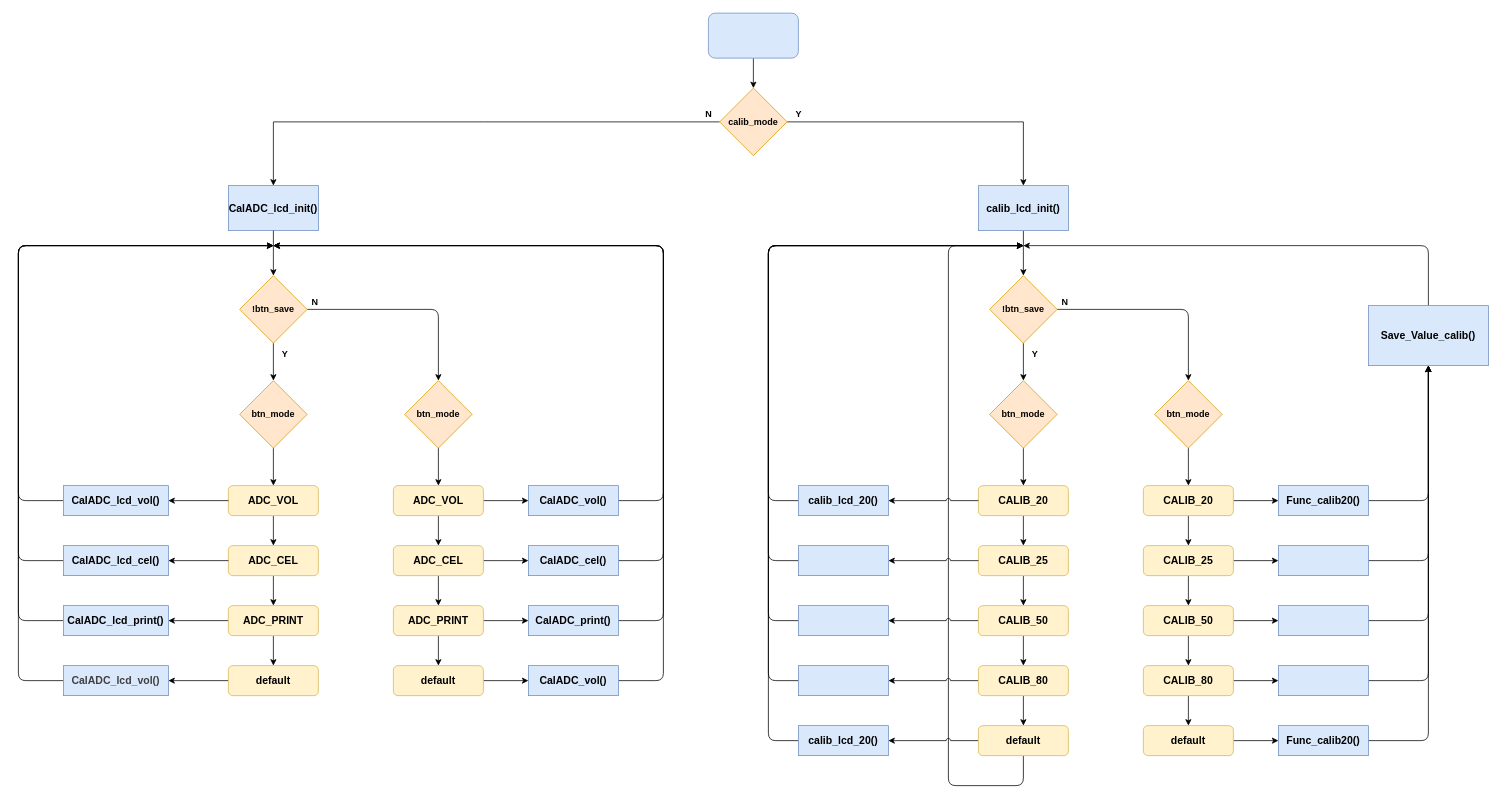
Some shapes in this 1502 by 805 pixel diagram are drawn without their labels. The shapes that lost their labels are listed below. From the top down, each one's box as (x1, y1, x2, y2) in pixels, then its label:
(708, 12, 798, 58): START
(798, 545, 888, 576): calib_lcd_25()
(1278, 545, 1368, 576): Func_calib25()
(798, 605, 888, 636): calib_lcd_50()
(1278, 605, 1368, 636): Func_calib50()
(798, 665, 888, 696): calib_lcd_80()
(1278, 665, 1368, 696): Func_calib80()
